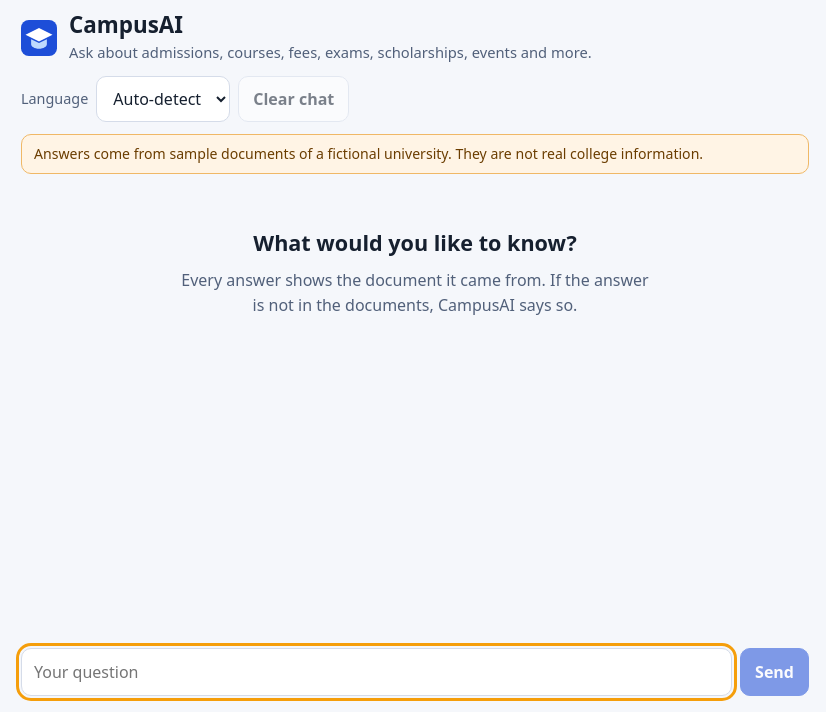
Test: App › answers a question and shows its sources
Type "BCA fee?" into the field labelled "Your question".
click(377, 672); type("BCA fee?")  # box [21,648,732,696]
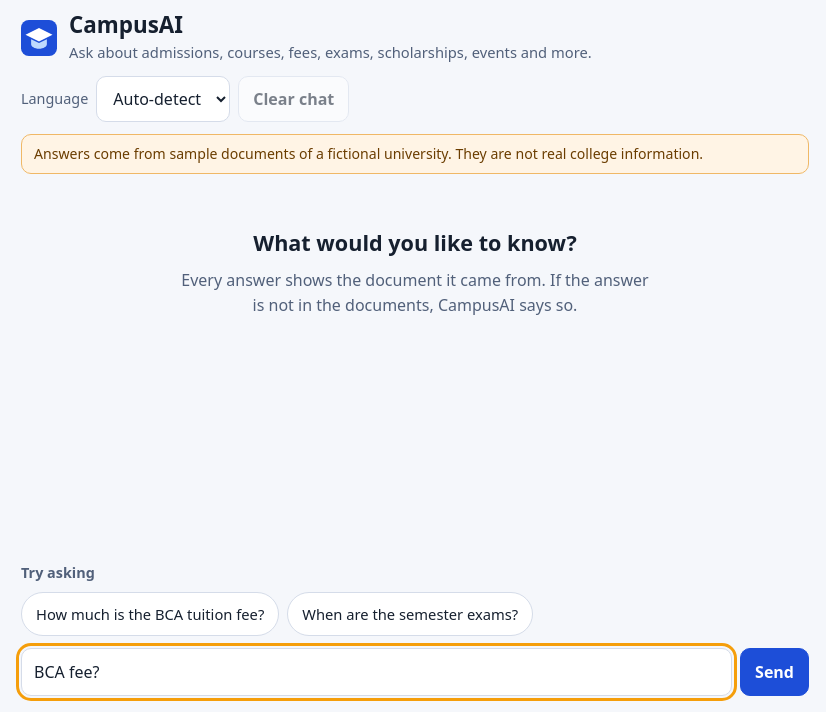
Click the button "Send".
click(775, 672)  # box [740,648,809,696]
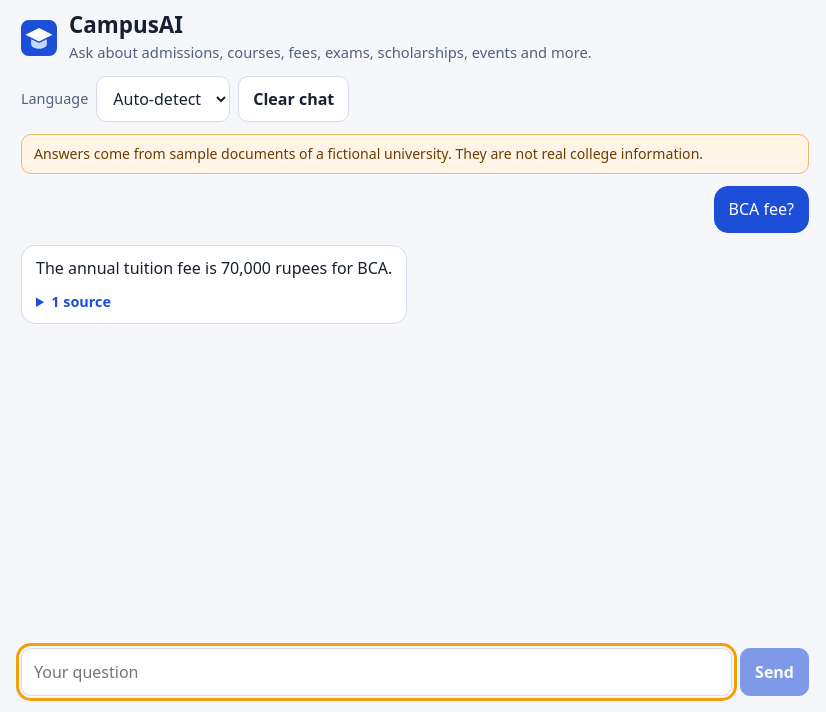
Now the text "The annual tuition fee is 70,000 rupees for BCA." is shown, box [36,256,392,281]
Now the heading "1 source" is shown, box [51,292,111,311]
